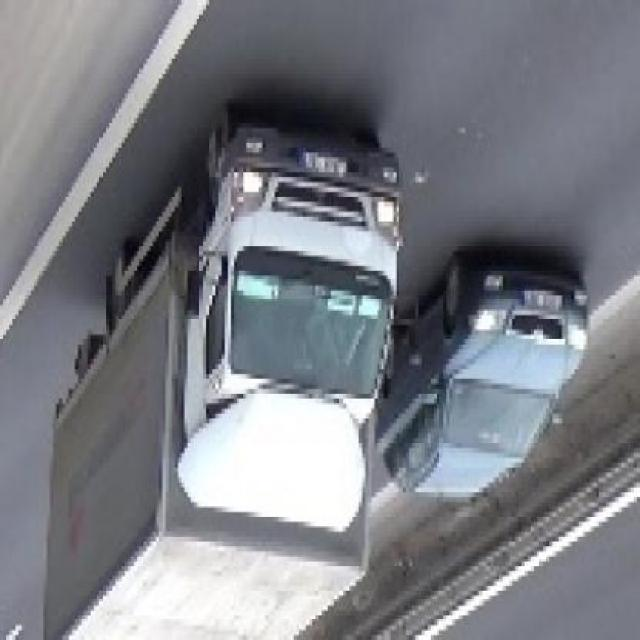truck: (47, 129, 410, 640)
